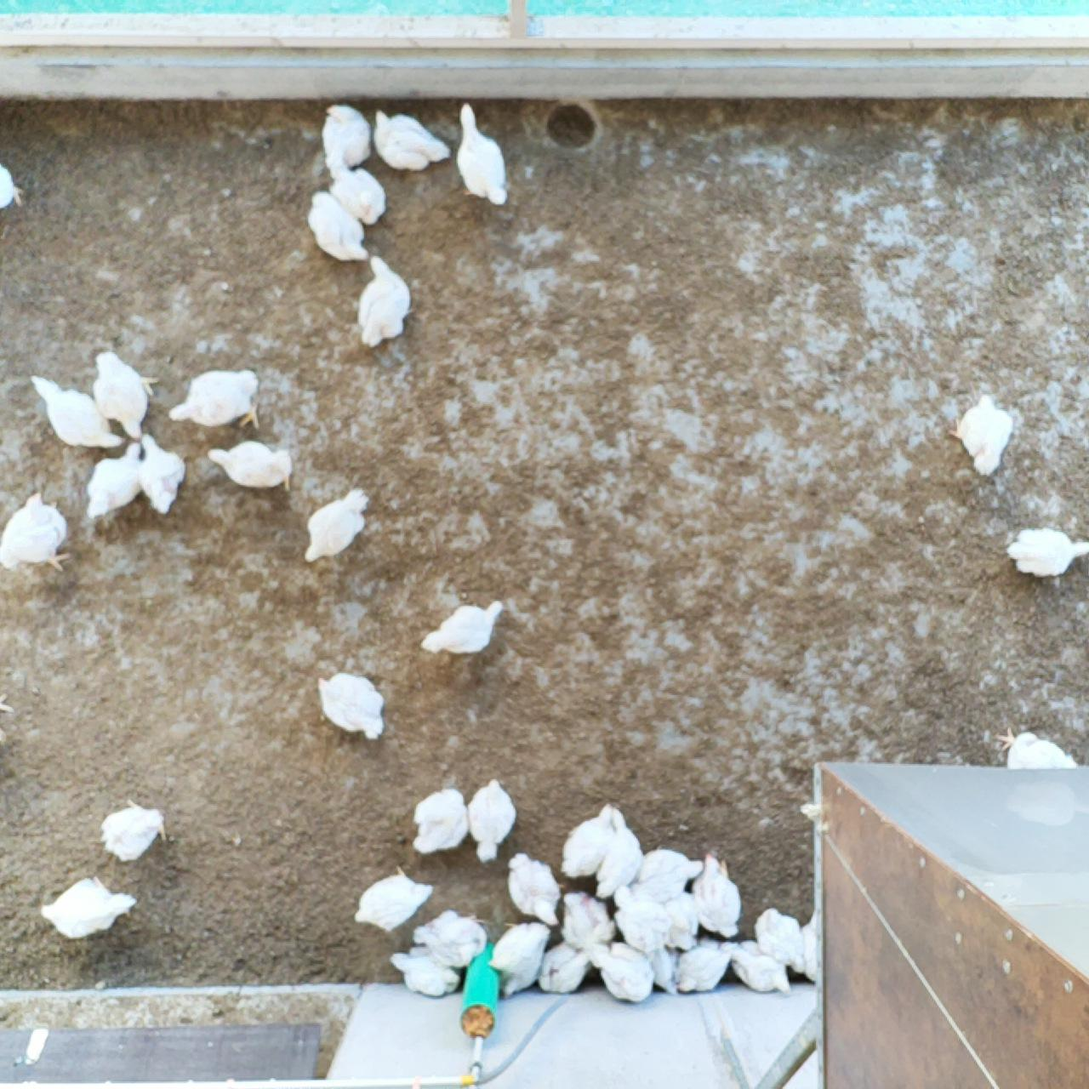chicken: (28, 373, 123, 452), (39, 873, 135, 943), (167, 364, 260, 433), (451, 103, 511, 208), (0, 491, 72, 575), (944, 392, 1016, 475), (301, 482, 373, 565), (91, 349, 160, 435), (353, 864, 436, 932), (356, 254, 415, 349), (83, 439, 150, 521), (302, 189, 374, 265), (312, 669, 388, 740), (685, 853, 744, 943), (1006, 519, 1089, 581), (590, 804, 641, 904), (322, 149, 388, 226), (370, 110, 452, 171), (409, 910, 491, 971), (417, 598, 503, 656), (487, 924, 553, 999), (559, 801, 620, 880), (505, 854, 566, 932), (204, 440, 295, 492), (98, 799, 167, 867), (135, 432, 189, 515), (467, 778, 517, 865), (995, 724, 1082, 772), (392, 943, 464, 1000), (412, 787, 474, 853), (589, 940, 653, 1002), (320, 106, 376, 174), (723, 941, 793, 995), (674, 937, 740, 993), (559, 889, 616, 951), (537, 942, 595, 1001), (755, 908, 806, 970), (613, 901, 676, 951), (655, 886, 702, 952), (640, 845, 706, 891), (613, 874, 685, 911), (800, 906, 832, 986), (642, 939, 681, 992), (0, 158, 29, 215)
